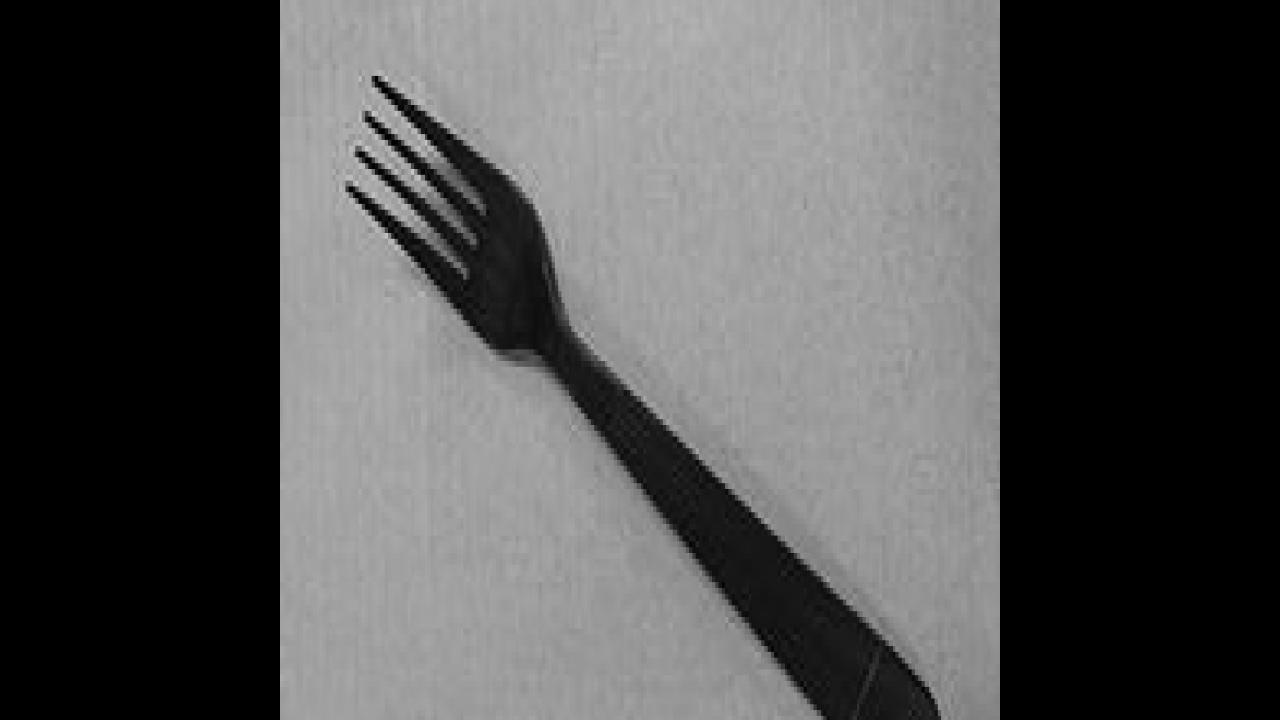fork: (342, 75, 941, 720)
